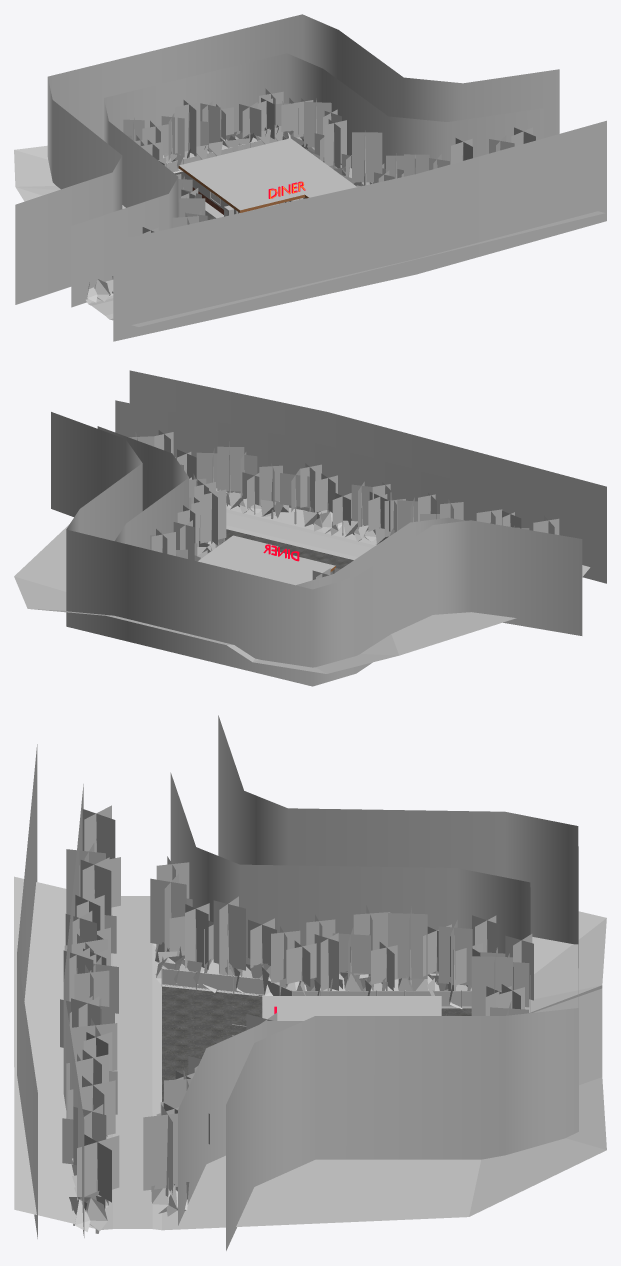
File: DINER.dae
The picture shows the model from 3 angles, top to bottom: view 1: azimuth 30°, elevation 25°; view 2: azimuth 150°, elevation 25°; view 3: azimuth 270°, elevation 25°; orthographic projection. The views are drawn at different scales.
Parts seen in each view (by area): view 1: Background, Trees.001, DINER, Grass, Bush, Fences; view 2: Background, Trees.001, Grass, DINER, Asphalt_02, Bush, Asphalt; view 3: Background, Trees.001, Grass, Asphalt_02, Asphalt, Bush, DINER, Fences.
Part boxes in pixels (x1=…): Background: x1=15, y1=14, x2=606, y2=341; Trees.001: x1=123, y1=88, x2=535, y2=234; DINER: x1=178, y1=138, x2=356, y2=214; Grass: x1=14, y1=138, x2=605, y2=326; Bush: x1=87, y1=125, x2=372, y2=302; Fences: x1=166, y1=135, x2=287, y2=172; Background: x1=51, y1=370, x2=606, y2=686; Trees.001: x1=128, y1=430, x2=559, y2=579; Grass: x1=14, y1=503, x2=590, y2=673; DINER: x1=198, y1=535, x2=335, y2=585; Asphalt_02: x1=226, y1=509, x2=375, y2=559; Bush: x1=189, y1=477, x2=394, y2=561; Asphalt: x1=224, y1=529, x2=353, y2=574; Background: x1=17, y1=715, x2=578, y2=1250; Trees.001: x1=60, y1=805, x2=533, y2=1233; Grass: x1=14, y1=876, x2=606, y2=1230; Asphalt_02: x1=101, y1=896, x2=161, y2=1230; Asphalt: x1=162, y1=986, x2=471, y2=1101; Bush: x1=69, y1=942, x2=471, y2=1231; DINER: x1=262, y1=996, x2=441, y2=1020; Fences: x1=161, y1=965, x2=471, y2=1007.
Size of what is drawn, in the model's own units: 115 by 73.54 by 21.93.
